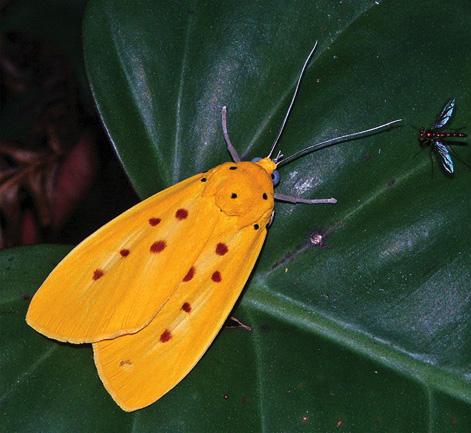Agape chloropyga: (26, 39, 407, 413)
moth: (24, 37, 405, 411)
